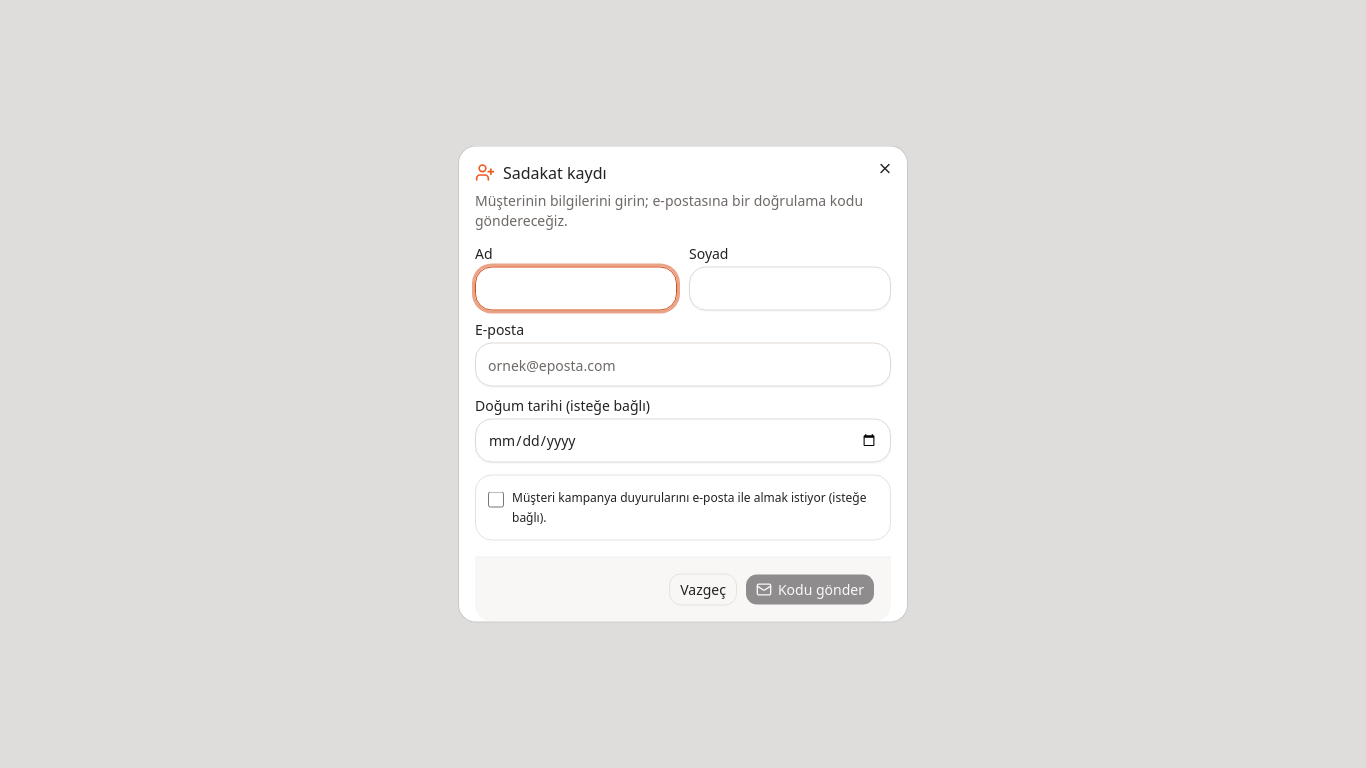
it: LoyaltyEnrollmentDialog › will not send a code until the cashier has a usable email
Expected: the button "Kodu gönder" is disabled, 745,574 -> 875,606
Type "Ahmet" into the field labelled "Ad".
click(576, 288); type("Ahmet")  # box 475,266 -> 677,310
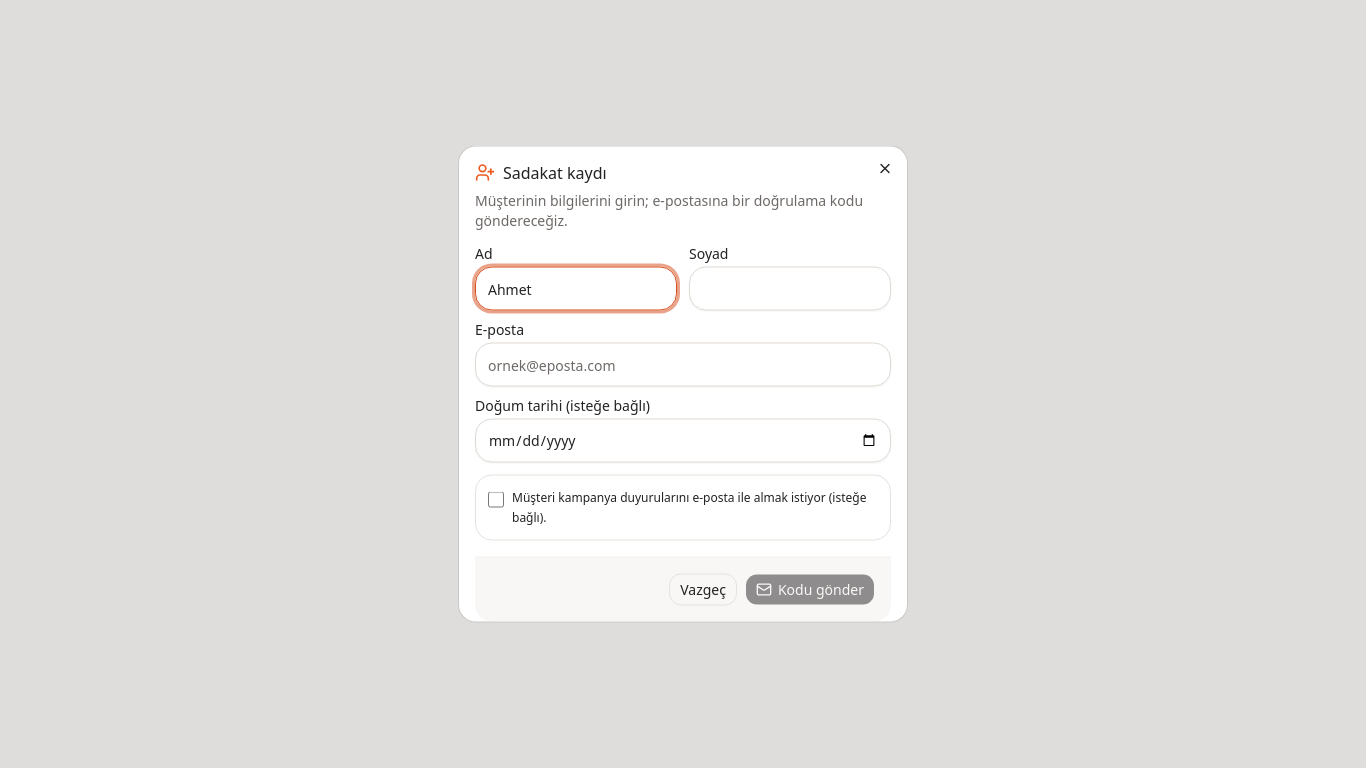
Type "Yılmaz" into the field labelled "Soyad".
click(790, 288); type("Yılmaz")  # box 689,266 -> 891,310
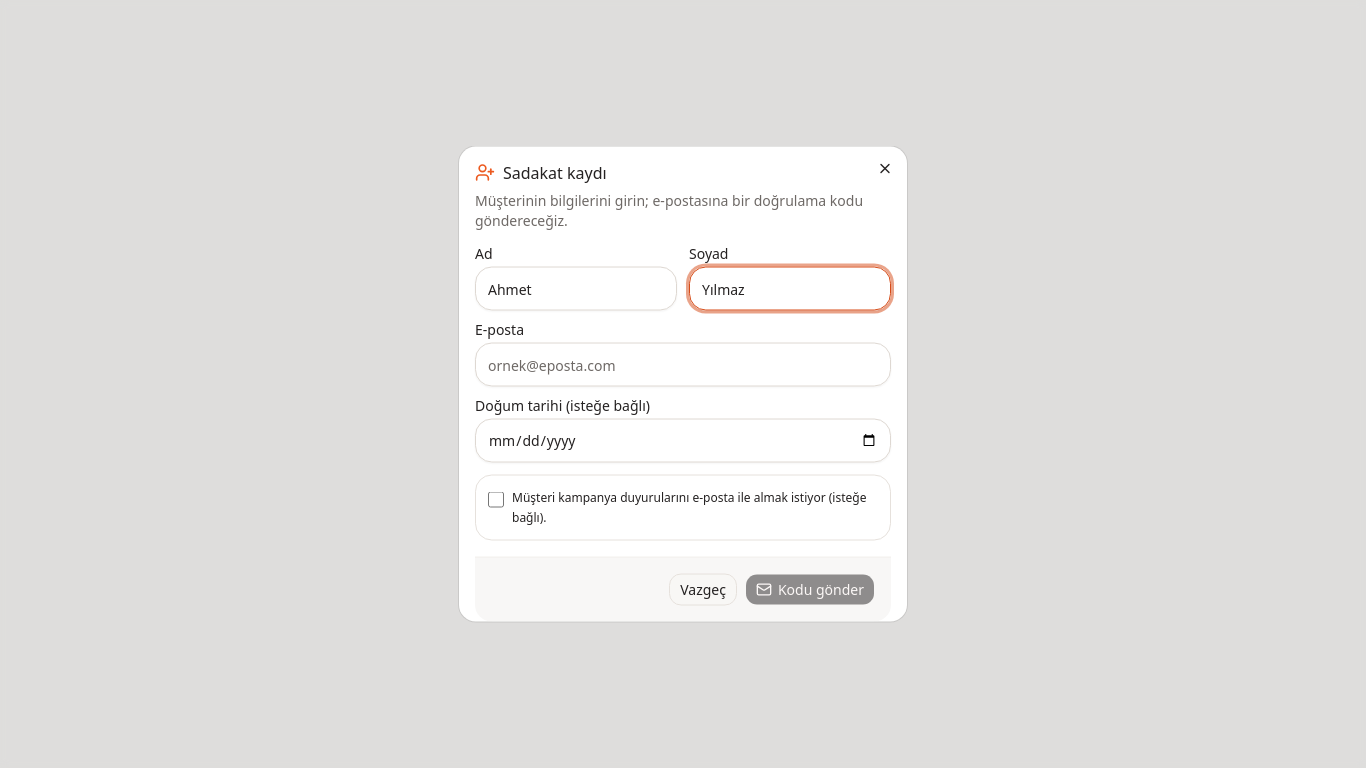
Type "gecersiz" into the field labelled "E-posta".
click(683, 364); type("gecersiz")  # box 475,342 -> 891,386
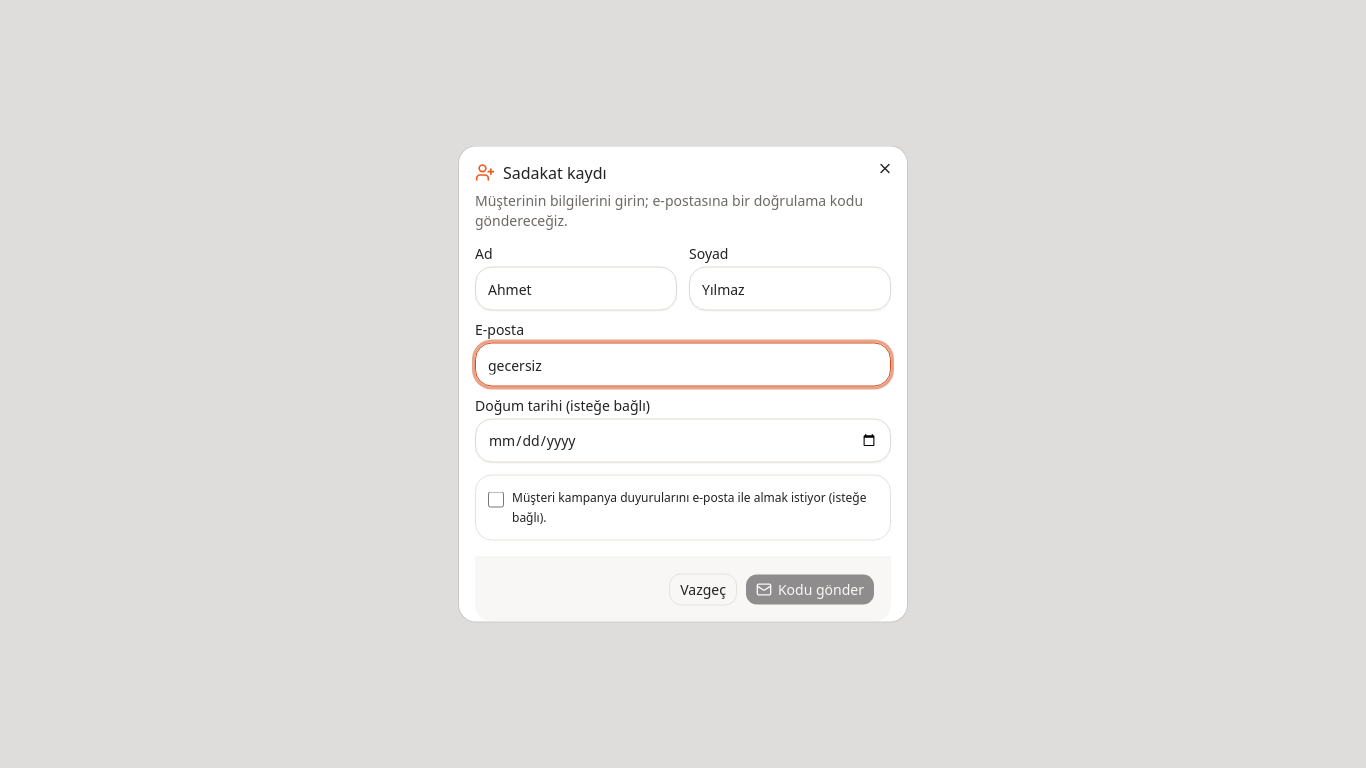
Expected: the button "Kodu gönder" is disabled, 745,574 -> 875,606
Replace the text in the field labelled "E-posta" with "ahmet@example.com" at (683, 364), box 475,342 -> 891,386
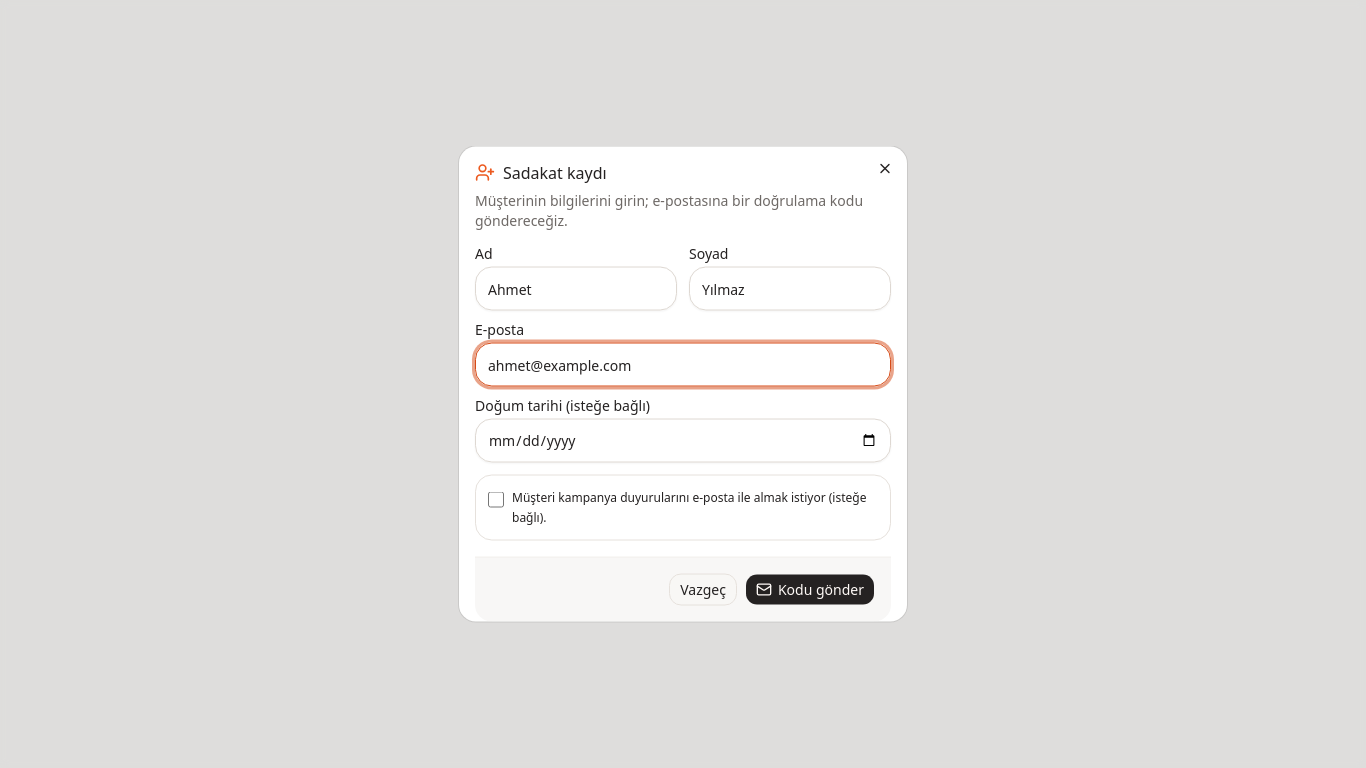
Now the button "Kodu gönder" is enabled, box 745,574 -> 875,606
